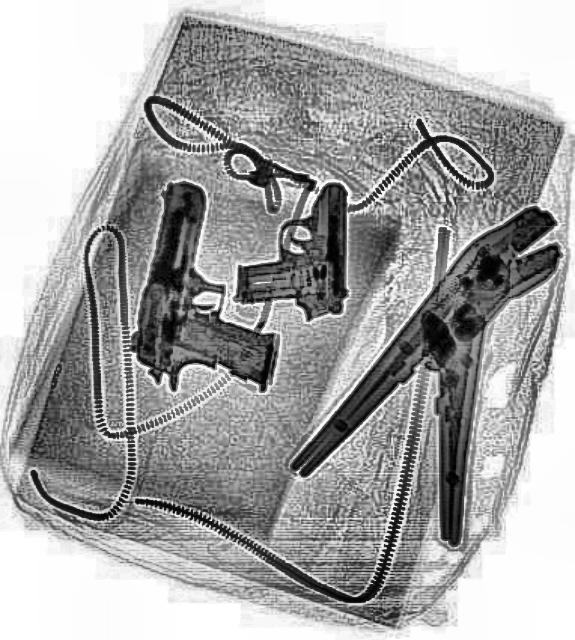Gun: (118, 174, 310, 412), (232, 179, 346, 319)
